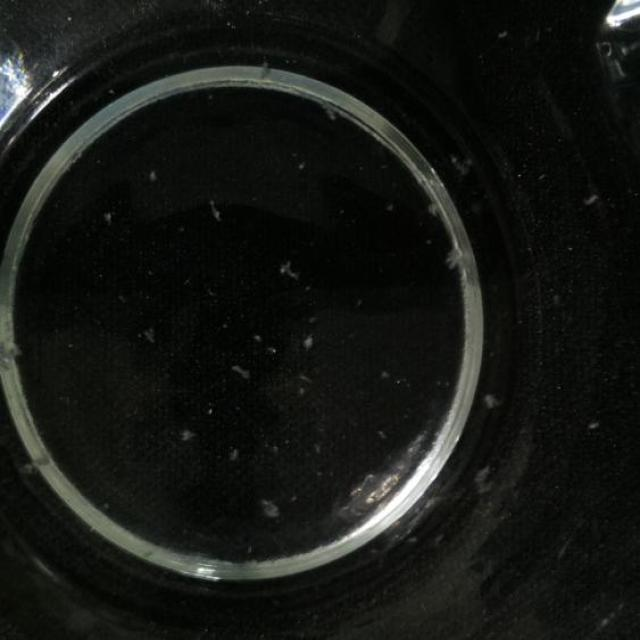fiber: (442, 241, 487, 292), (260, 243, 307, 291), (0, 446, 59, 484), (590, 44, 632, 80), (252, 488, 288, 524), (199, 196, 230, 227), (186, 0, 228, 20), (480, 382, 502, 418), (227, 362, 257, 388), (298, 330, 324, 353), (175, 423, 194, 448), (226, 438, 243, 462)
